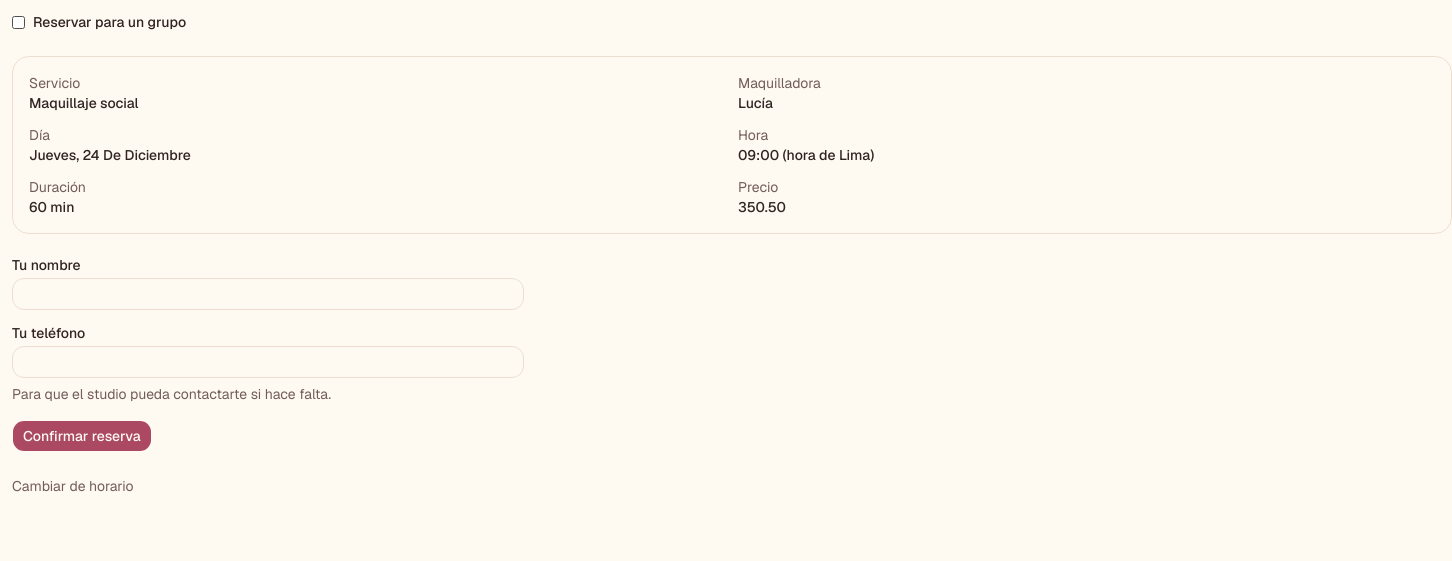
Test: respuestas del servidor › con datos inválidos muestra el error junto al campo, lo marca y conserva lo escrito
Click the button "Confirmar reserva": point(82, 436) [12, 420, 152, 452]
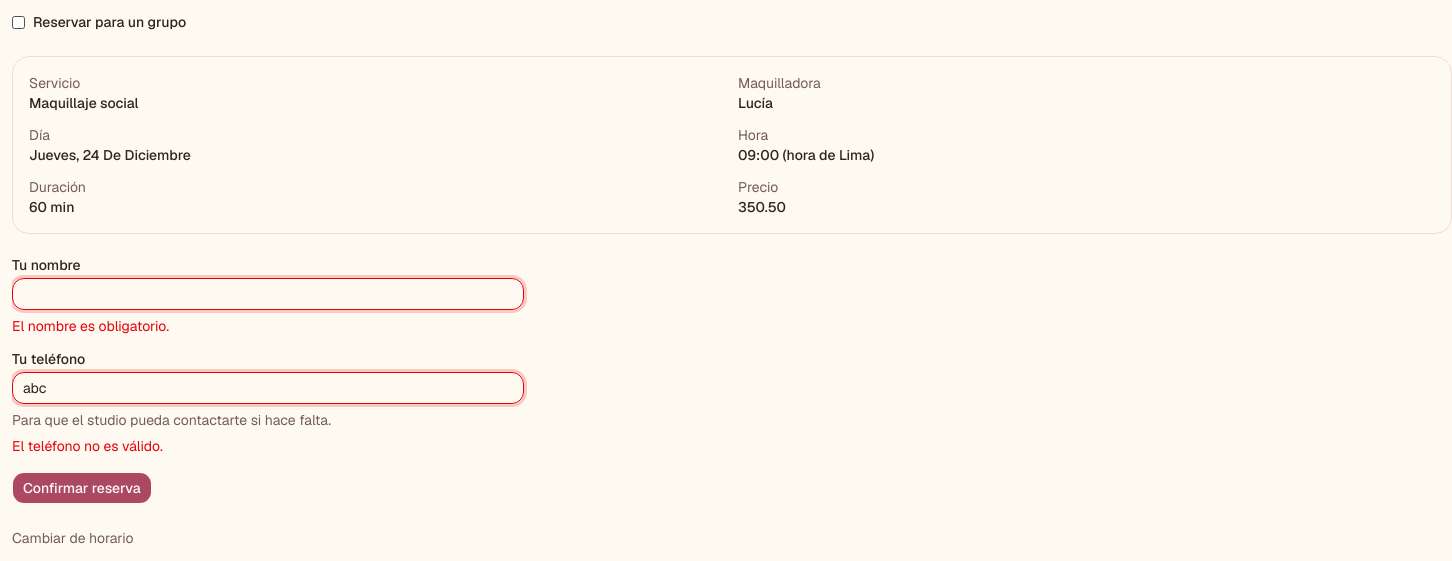
Result: the text "El nombre es obligatorio." is shown at [12, 317, 169, 335]
Result: the text "El teléfono no es válido." is shown at [12, 437, 163, 455]
Result: the field labelled "Tu nombre" holds "   " at [12, 278, 524, 310]
